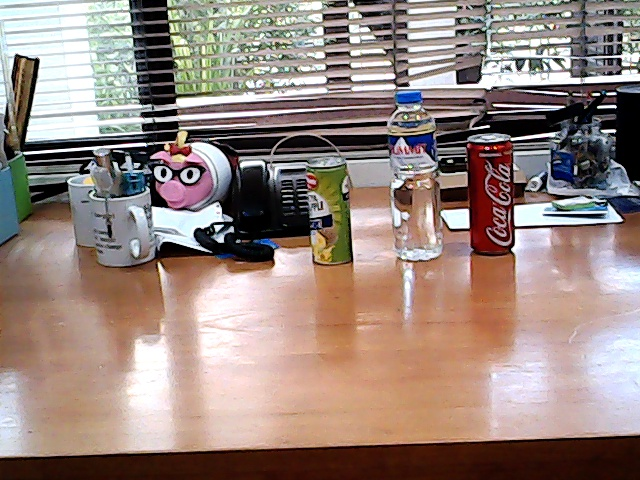Cola: (459, 125, 527, 268)
Pine Juice: (302, 145, 362, 275)
Summit Water: (380, 81, 451, 274)
